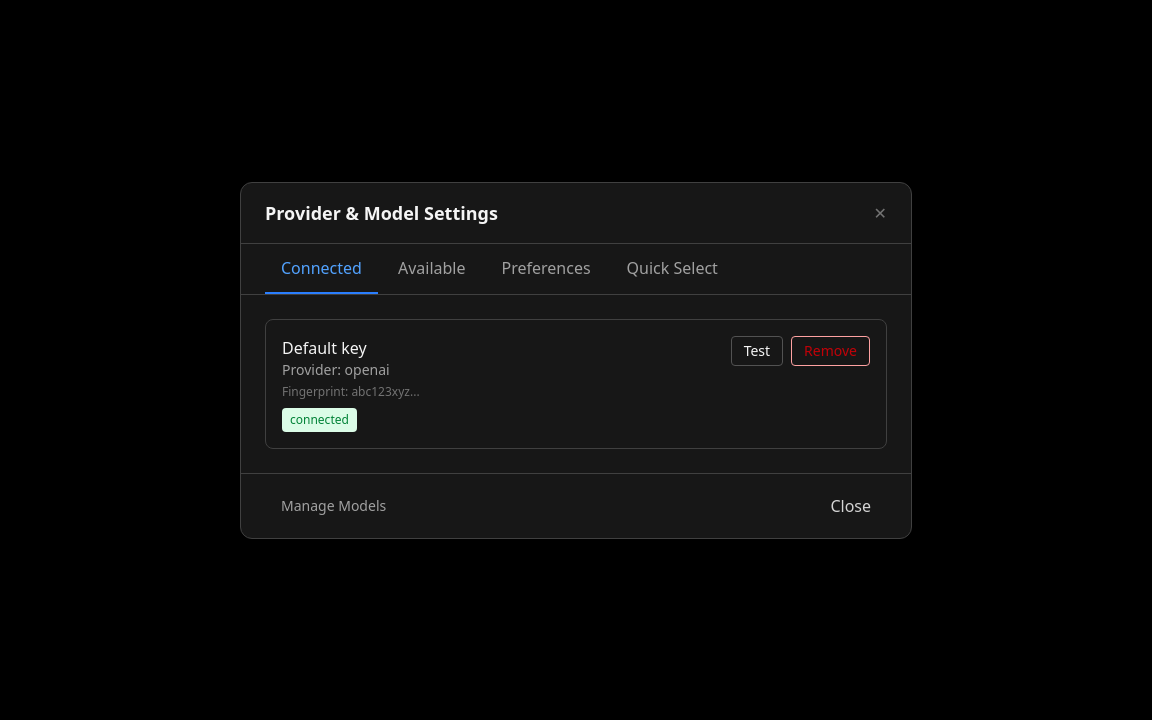
ProviderDialog › Available tab › shows form to add new credential
This screenshot has width=1152, height=720.
What coordinates should you click on to do the following:
click the button "Available"
I would click on:
 (432, 268)
Its box is [382,244,482,294].
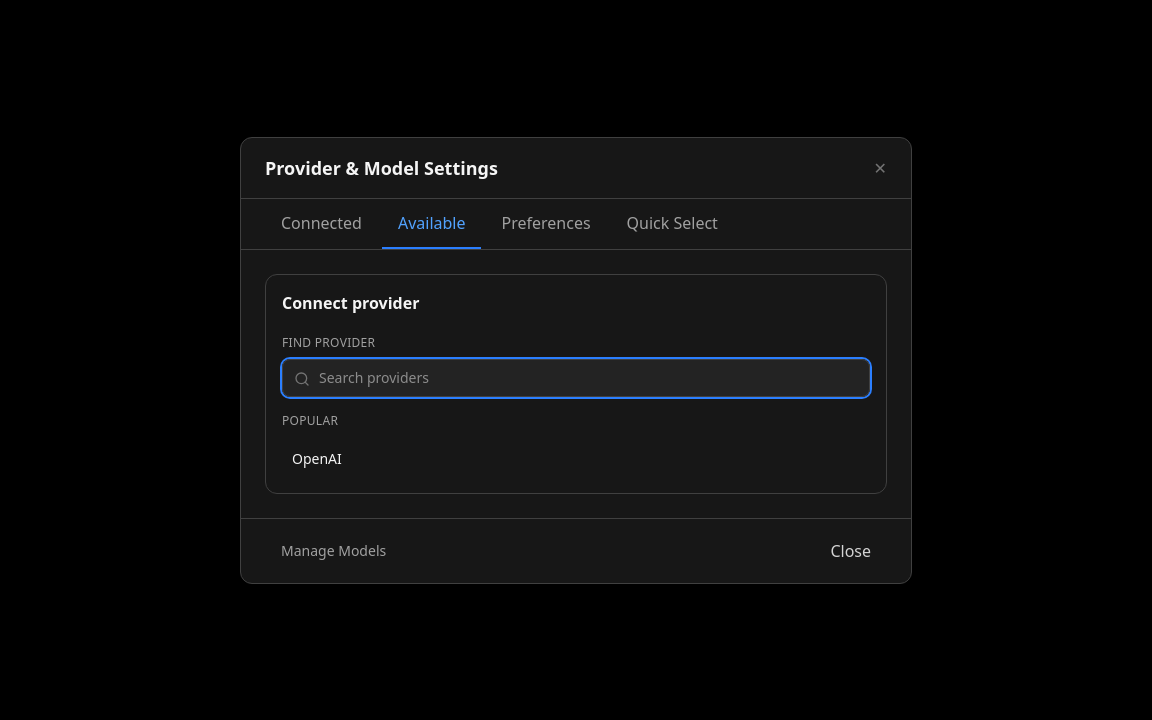
Result: the text "Find Provider" is shown at [282,334,375,350]
Result: the field with placeholder "Search providers" is shown at [282,358,870,396]
